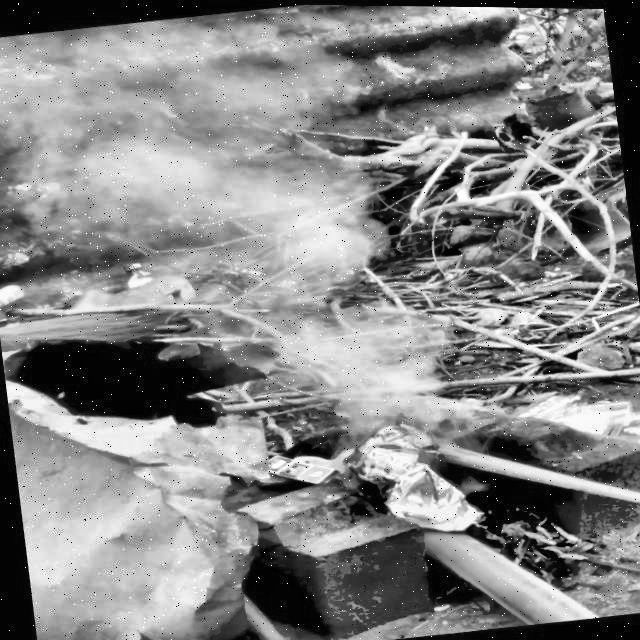Smoke: (0, 0, 495, 580)
